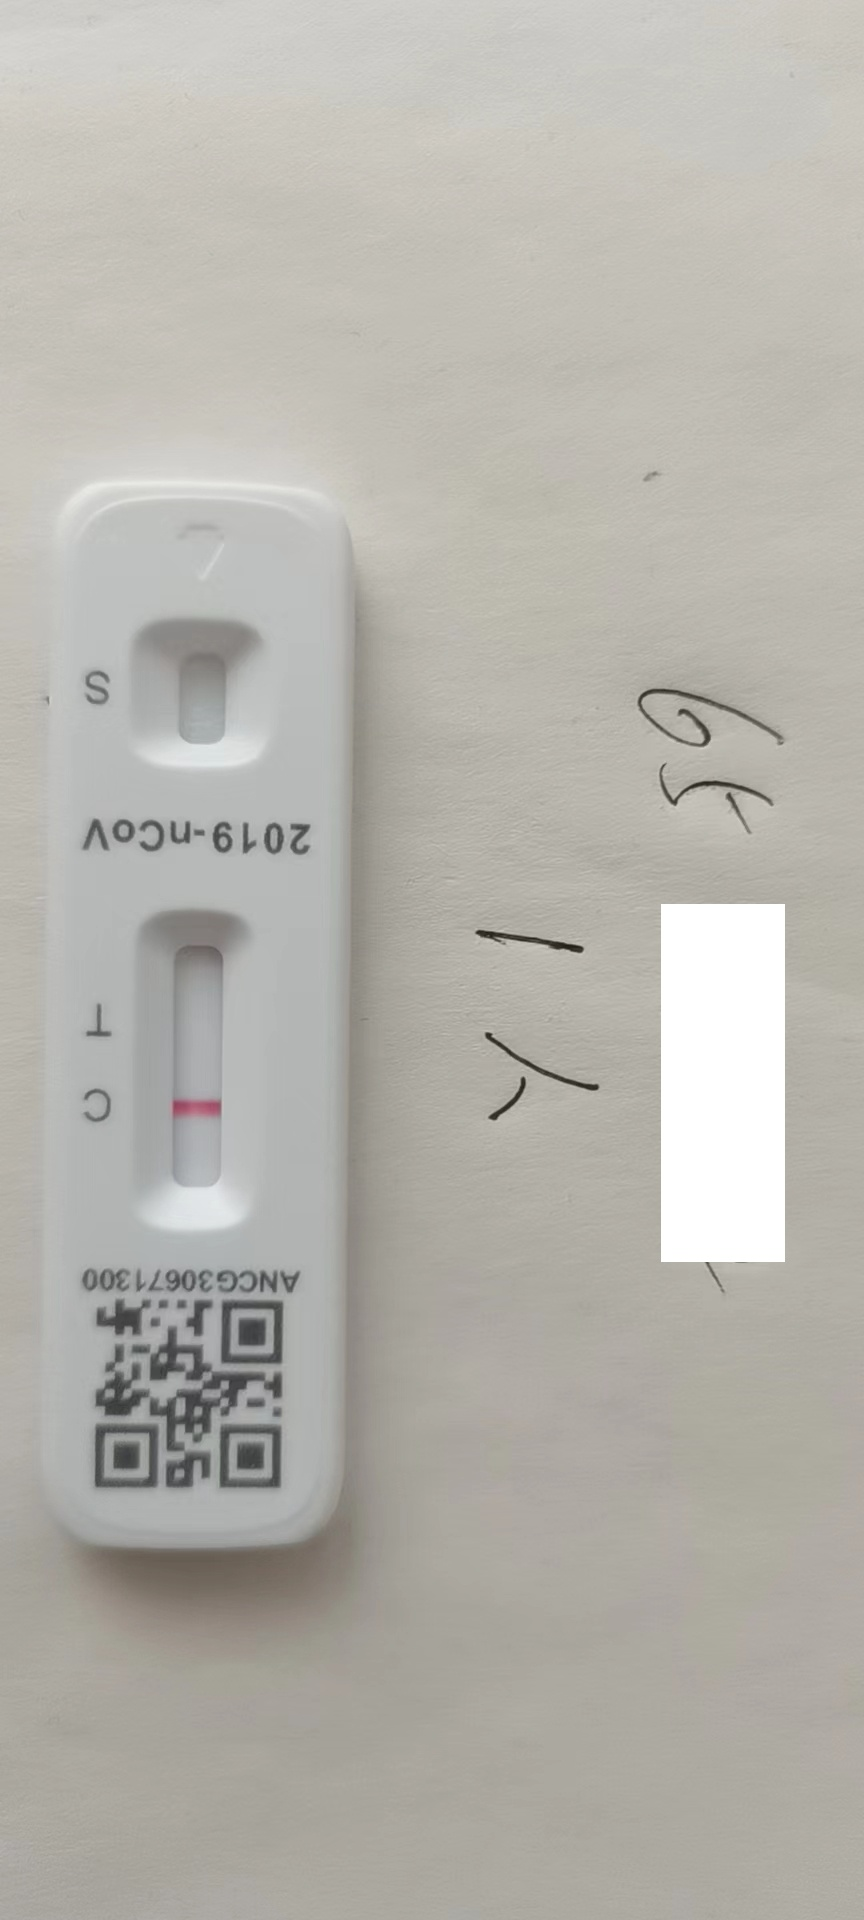negative: (133, 905, 246, 1243)
